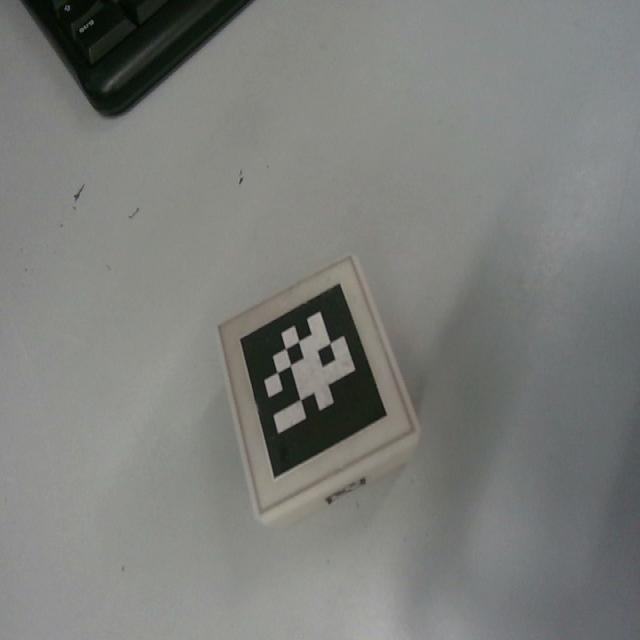Cube: (216, 252, 421, 527)
